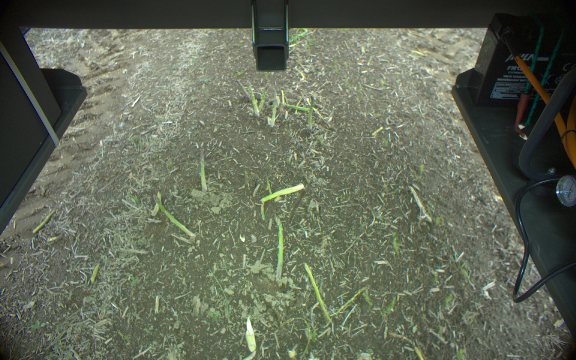aspa: (150, 194, 193, 238), (302, 262, 330, 319), (269, 214, 287, 278), (196, 144, 210, 193), (278, 99, 309, 114), (303, 97, 316, 132), (247, 83, 259, 118), (269, 87, 279, 127), (236, 78, 250, 104), (258, 84, 266, 109)
